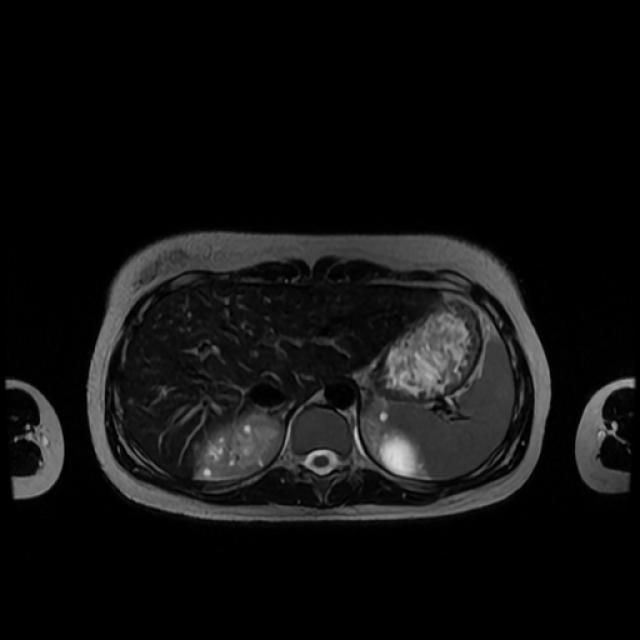sag: (194, 416, 284, 482)
sol: (358, 395, 431, 480)
